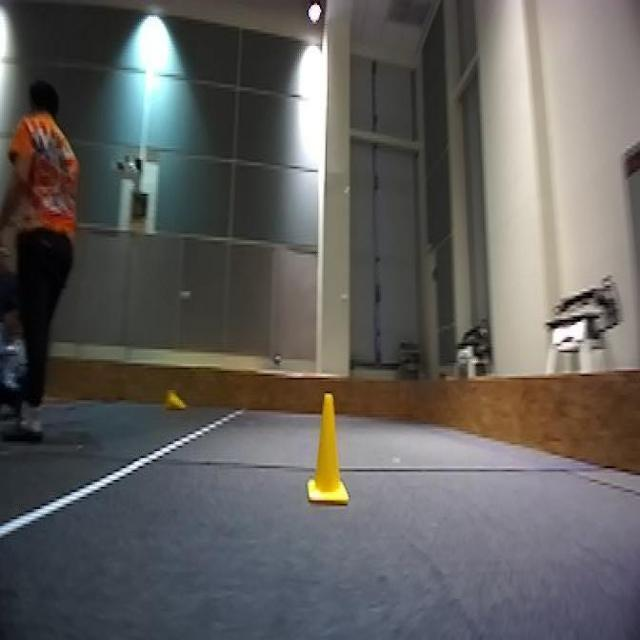frc_cone: (308, 388, 351, 506), (159, 392, 189, 418)
